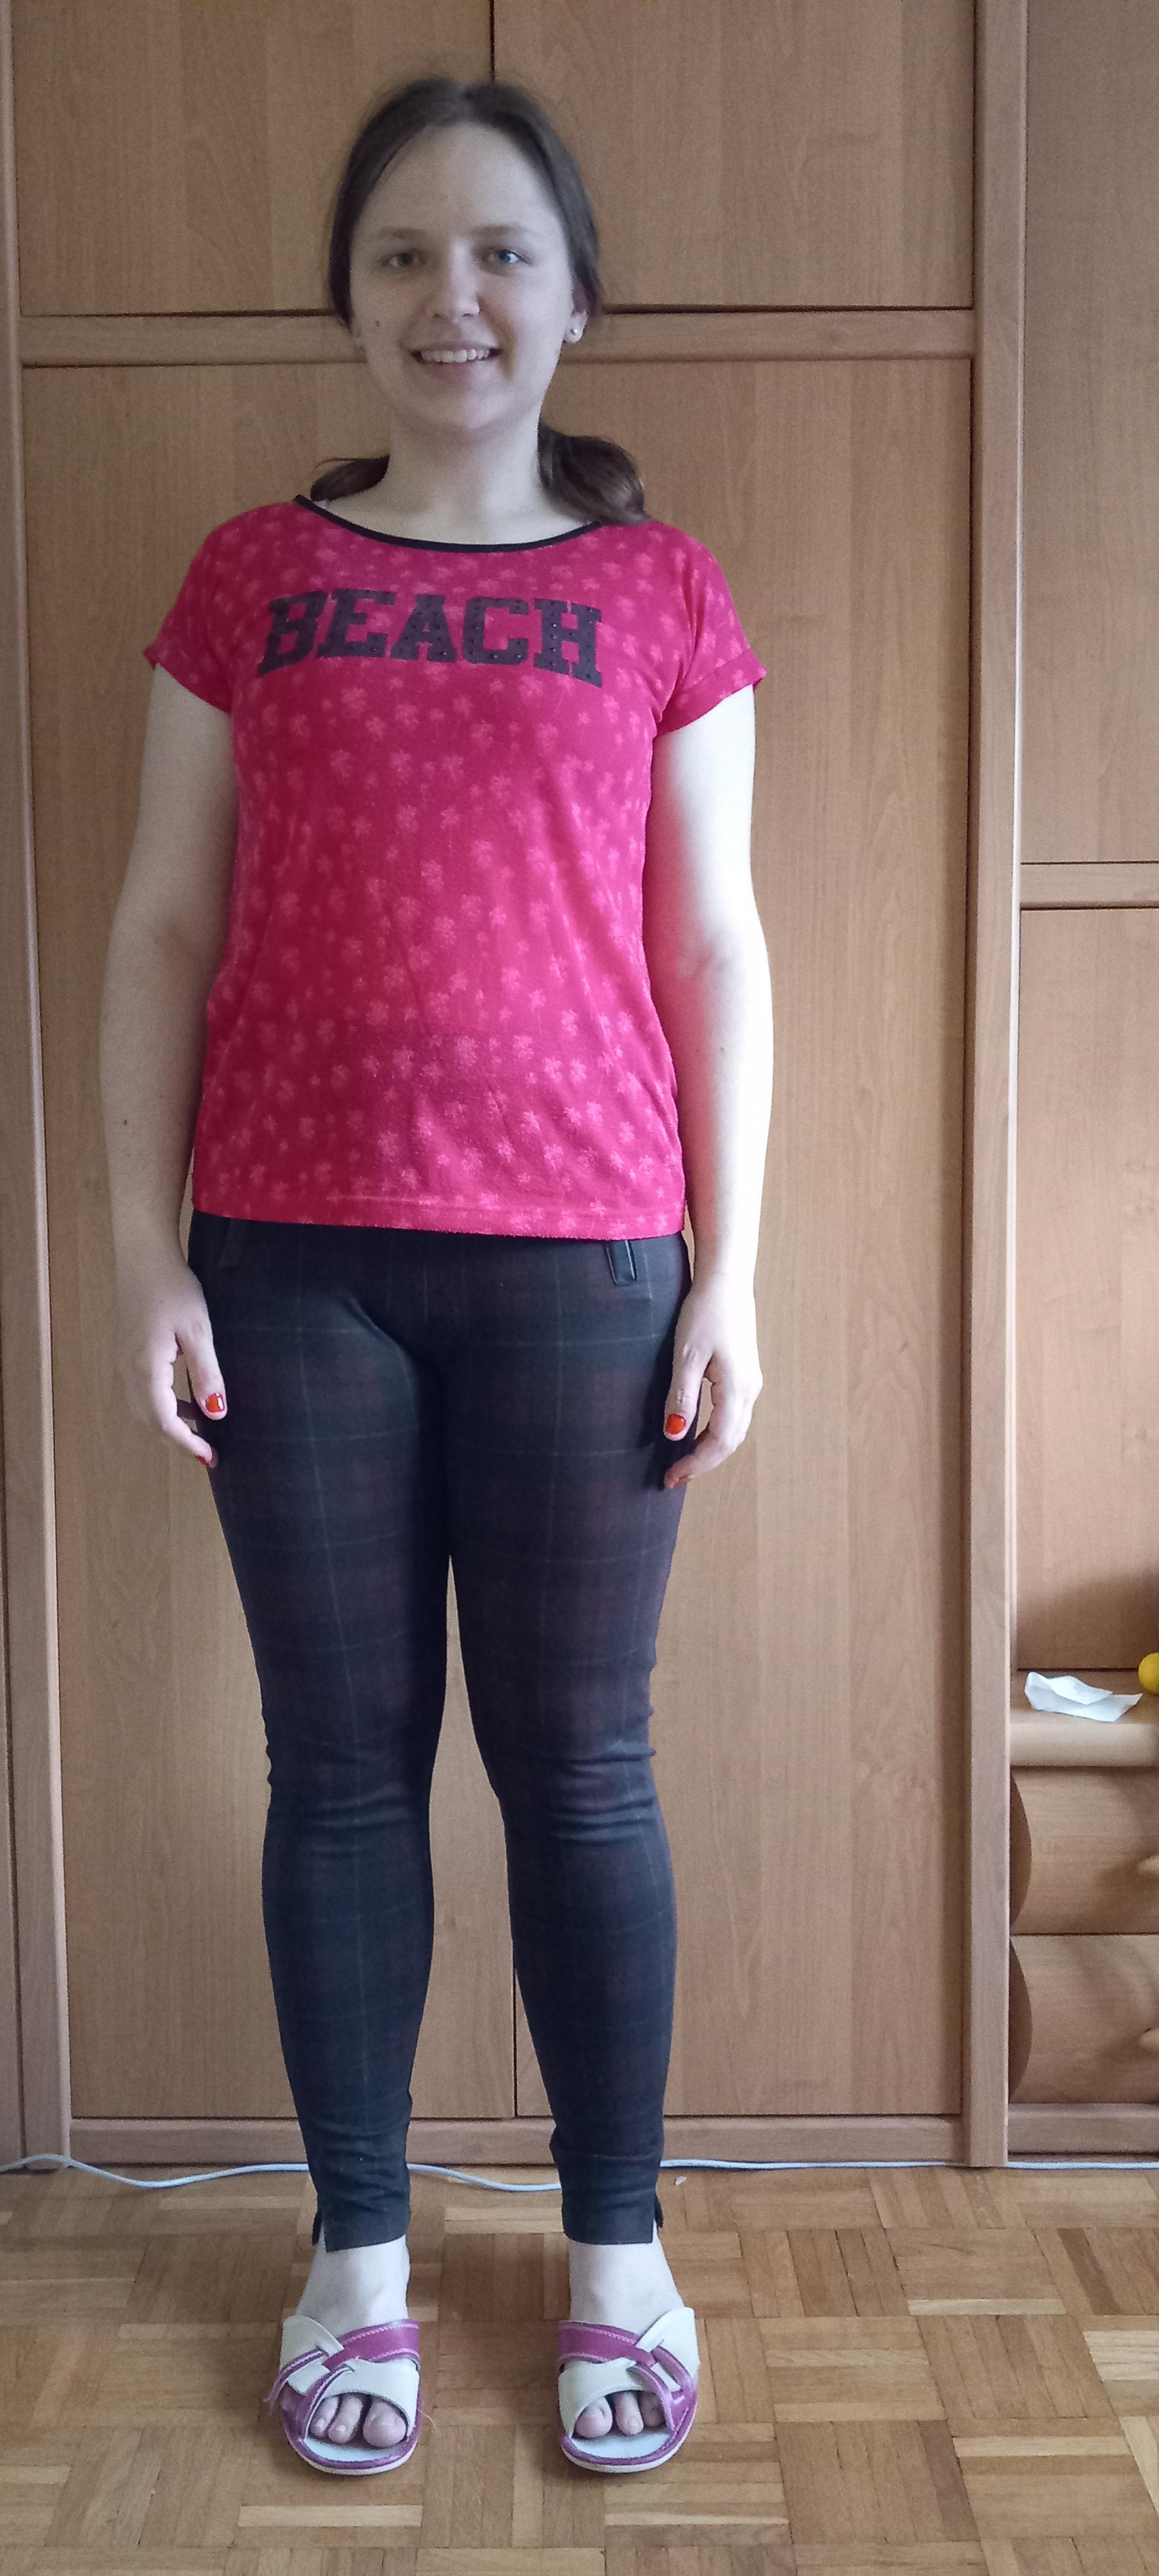Tshirt: (143, 494, 765, 1244)
pants: (184, 1216, 699, 2257)
